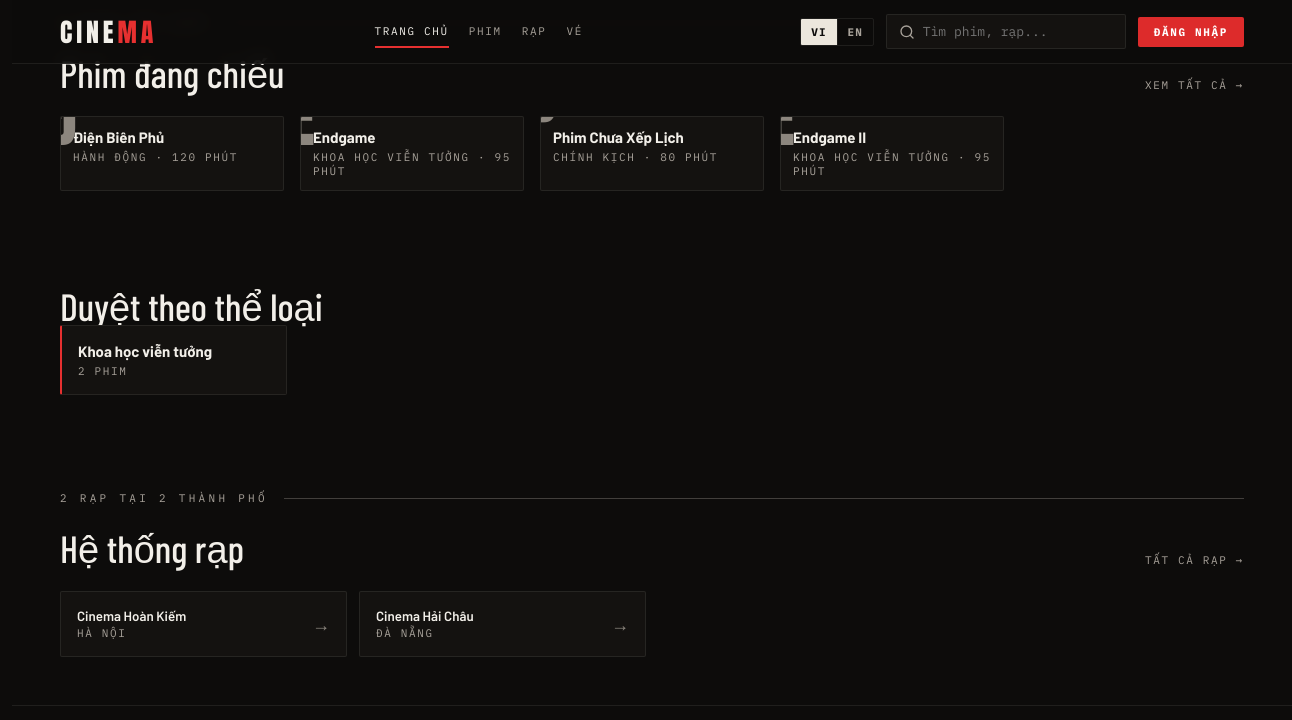
Test: Home › ô thể loại mang genre sang trang Phim
(page scrolled)
Click the button "Khoa học viễn tưởng 2 phim". click: (174, 360)
box: x1=60 y1=325 x2=287 y2=395
(page scrolled)
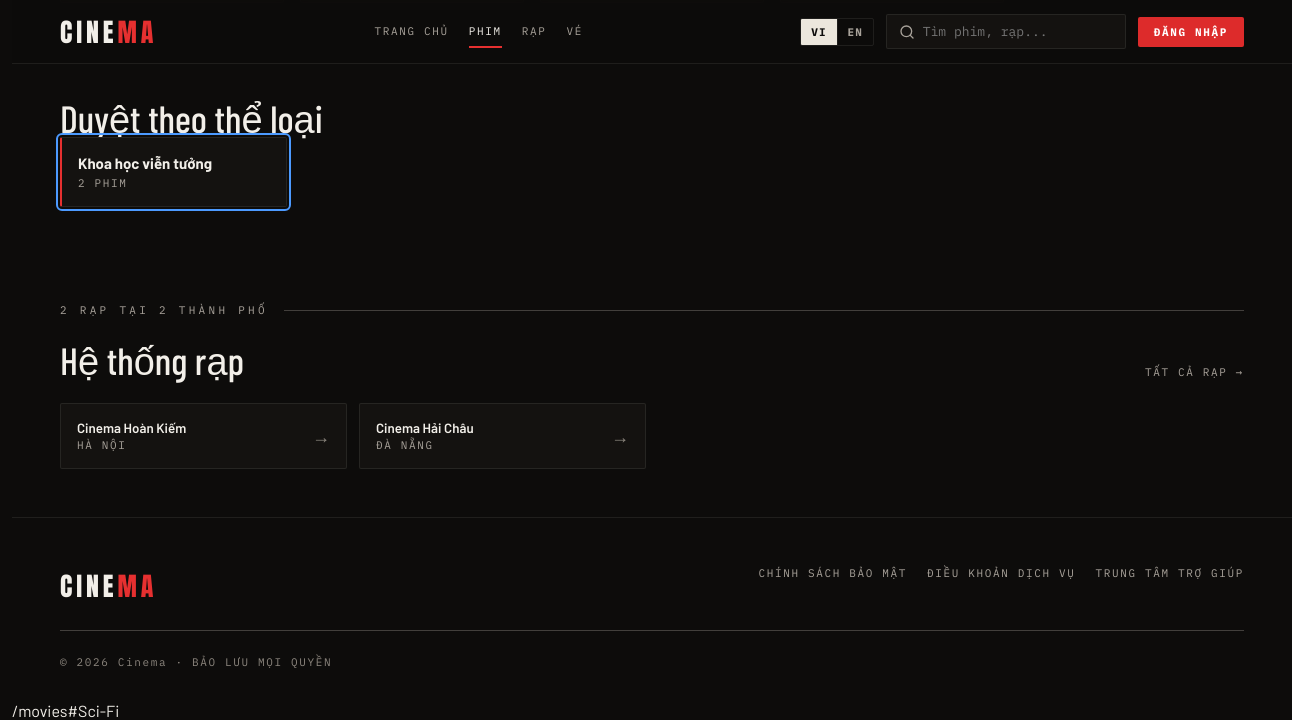
Check: the text with test id "path" reads "/movies#Sci-Fi", box x1=12 y1=701 x2=119 y2=719
